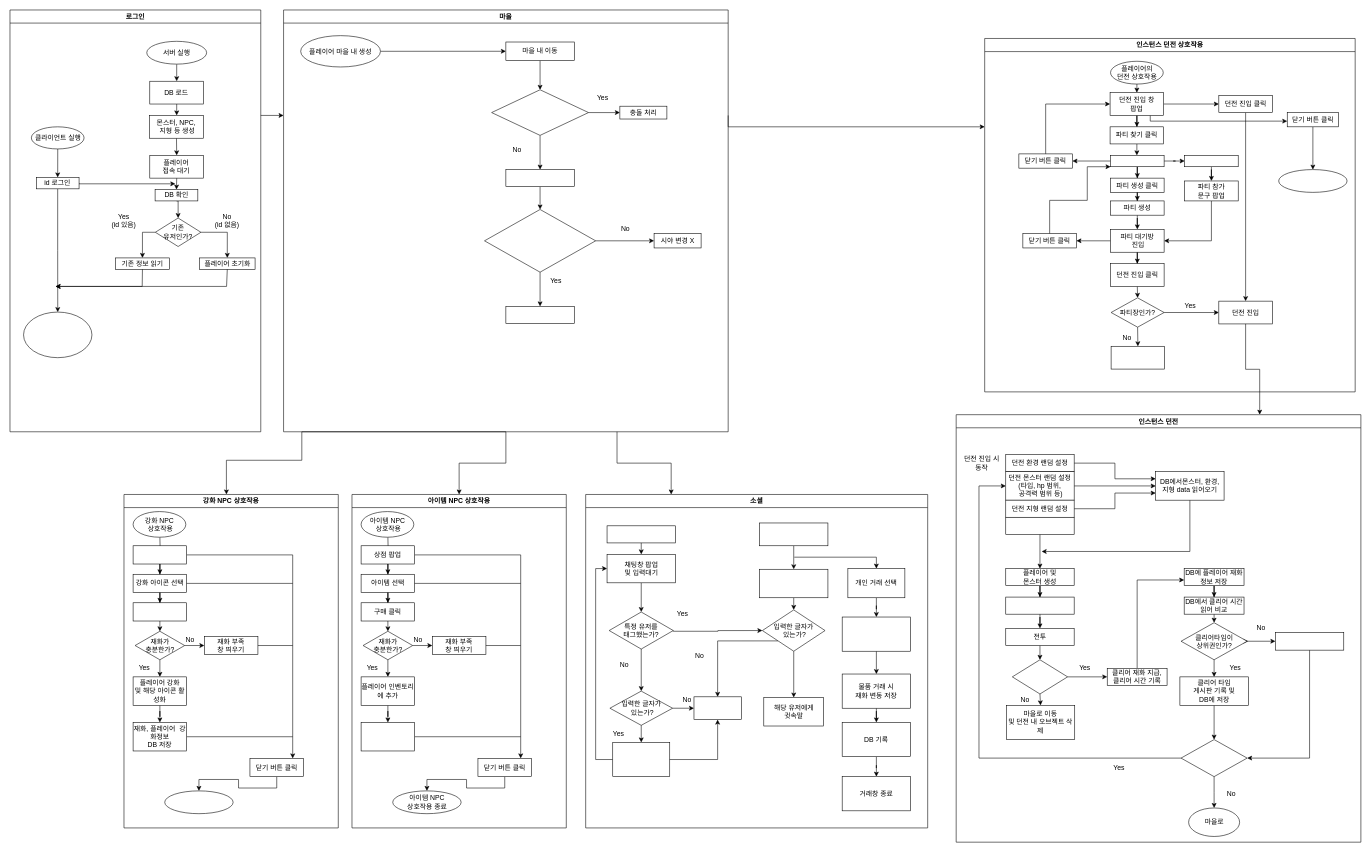
Image size: 1371x852. Some labels were removed from this diagram. The centre of each missing label's shape, as x and y in pixels:
강화 NPC 상호작용 종료: (x=198, y=802)
강화 버튼 클릭: (x=160, y=611)
거래창 팝업: (x=876, y=633)
귓속말 선택: (x=793, y=583)
기존 파티 클릭: (x=1211, y=161)
다른 오브젝트들이 시야에 들어왔는가? or 나갔는가?: (x=540, y=240)
다음 층 진입?: (x=1213, y=758)
던전 진입 상호작용 종료: (x=1312, y=180)
마을 내 모든 플레이어에게 채팅 전송: (x=641, y=759)
몬스터 배치: (x=1039, y=525)
시야 처리: (x=539, y=314)
아이템, 재화 정보 DB 저장: (x=388, y=736)
엔터 키 입력: (x=640, y=534)
오브젝트와 충돌했는가?: (x=540, y=112)
이동: (x=539, y=178)
작동X: (x=1138, y=357)
채팅창 닫기: (x=717, y=708)
클라이언트 게임 접속: (x=57, y=335)
클리어 타임 게시판 변화 X: (x=1309, y=641)
특정 유저 피킹: (x=793, y=534)
파티 창 팝업: (x=1137, y=161)
플레이어 강화 화면 팝업: (x=160, y=554)
플레이어가 이겼는가?: (x=1040, y=676)
플레이어의 던전 진입 시간 기록: (x=1039, y=605)
